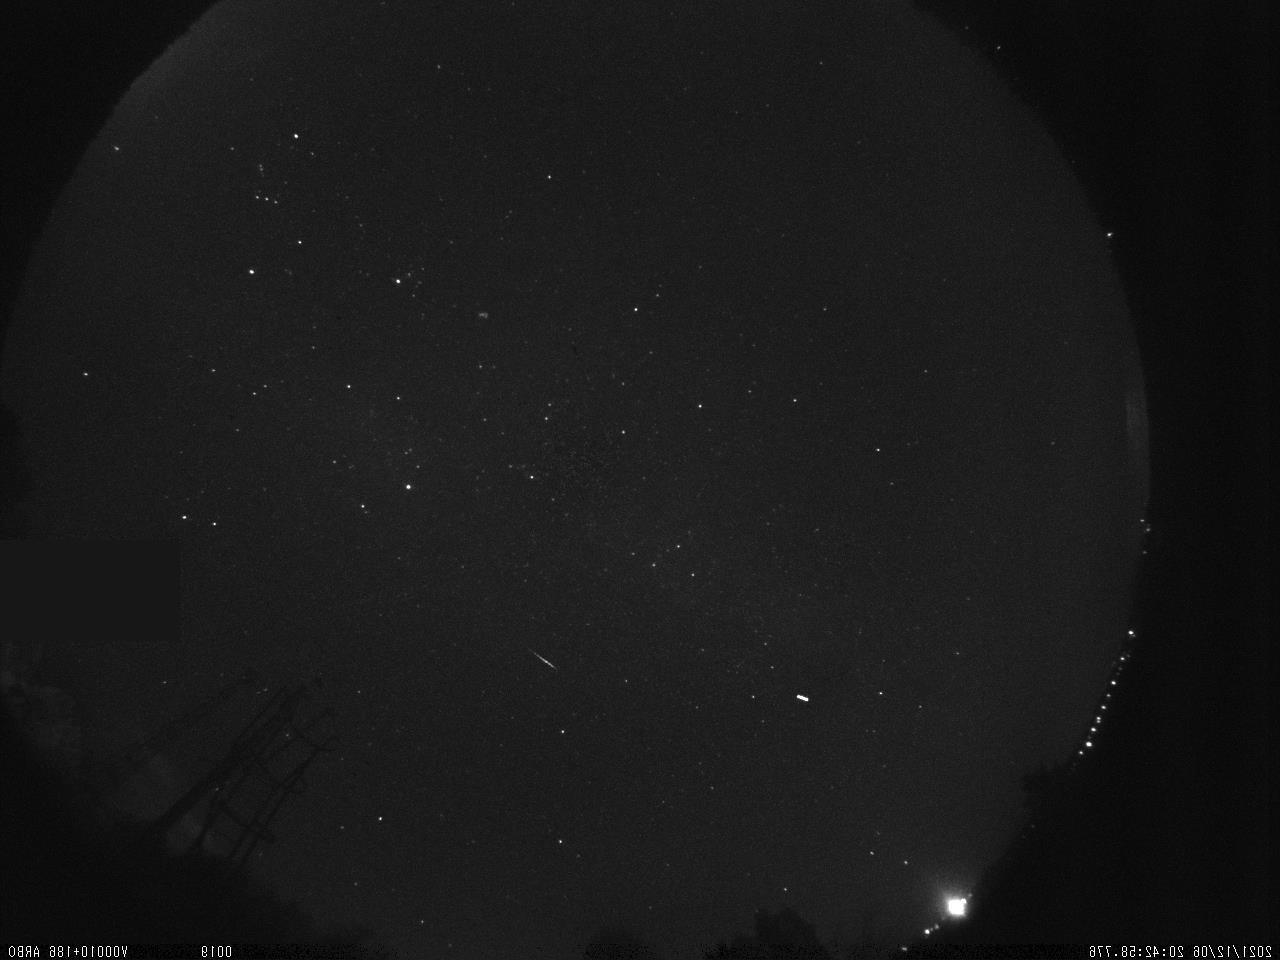meteor: (511, 636, 571, 683)
